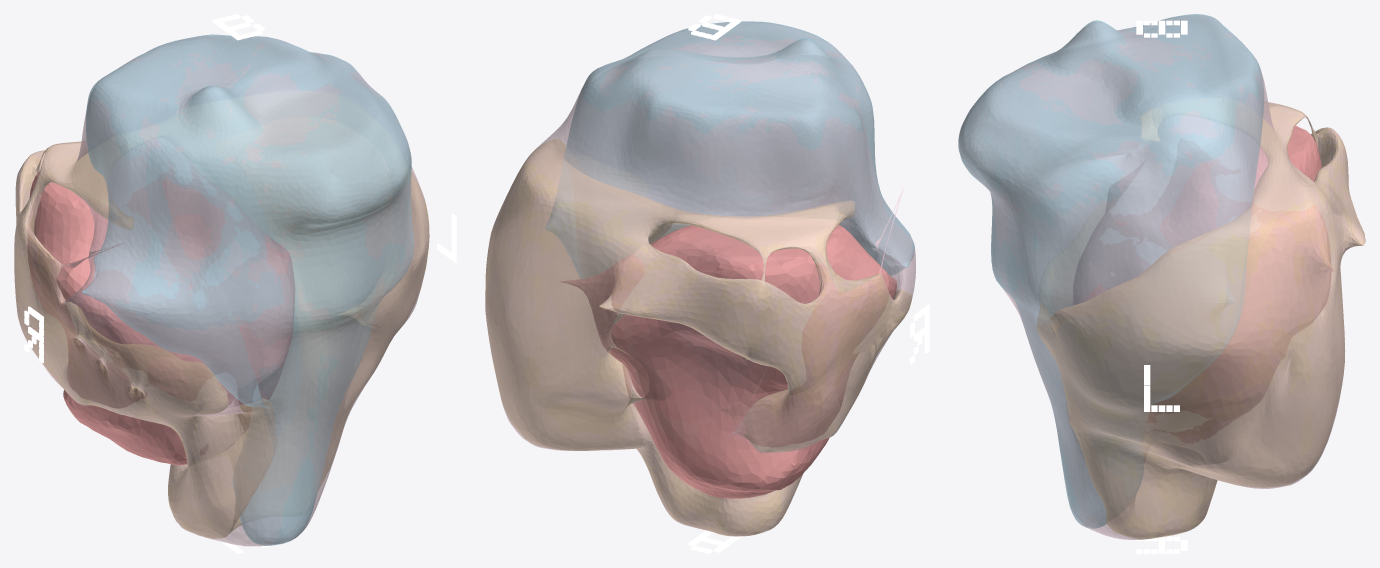
3 renders of one model, left to right at view 1: azimuth 30°, elevation 25°; view 2: azimuth 150°, elevation 25°; view 3: azimuth 270°, elevation 25°, orthographic.
Parts seen in each view (by area): view 1: prostate_gland, transition_zone, lesion_01, peripheral_zone, pv_ar_marker_B, pv_ar_marker_R; view 2: prostate_gland, peripheral_zone, transition_zone, lesion_01, pv_ar_marker_B, pv_ar_marker_R; view 3: prostate_gland, peripheral_zone, transition_zone, lesion_01, pv_ar_marker_B, pv_ar_marker_L, pv_ar_marker_A.
Part boxes in pixels (x1,y1,x2,y2): prostate_gland: (14, 35, 429, 546); transition_zone: (82, 34, 414, 545); lesion_01: (27, 162, 294, 465); peripheral_zone: (14, 141, 429, 538); pv_ar_marker_B: (212, 14, 264, 40); pv_ar_marker_R: (24, 306, 43, 363); prostate_gland: (485, 22, 915, 536); peripheral_zone: (485, 139, 911, 535); transition_zone: (545, 21, 914, 278); lesion_01: (560, 224, 896, 498); pv_ar_marker_B: (688, 14, 741, 40); pv_ar_marker_R: (910, 304, 929, 364); prostate_gland: (958, 15, 1365, 539); peripheral_zone: (1036, 102, 1365, 538); transition_zone: (958, 14, 1263, 528); lesion_01: (1073, 125, 1333, 443); pv_ar_marker_B: (1136, 20, 1187, 37); pv_ar_marker_L: (1144, 365, 1179, 411); pv_ar_marker_A: (1136, 537, 1187, 553).
Size of the model in its own units: 0.0574 by 0.0683 by 0.0487.
